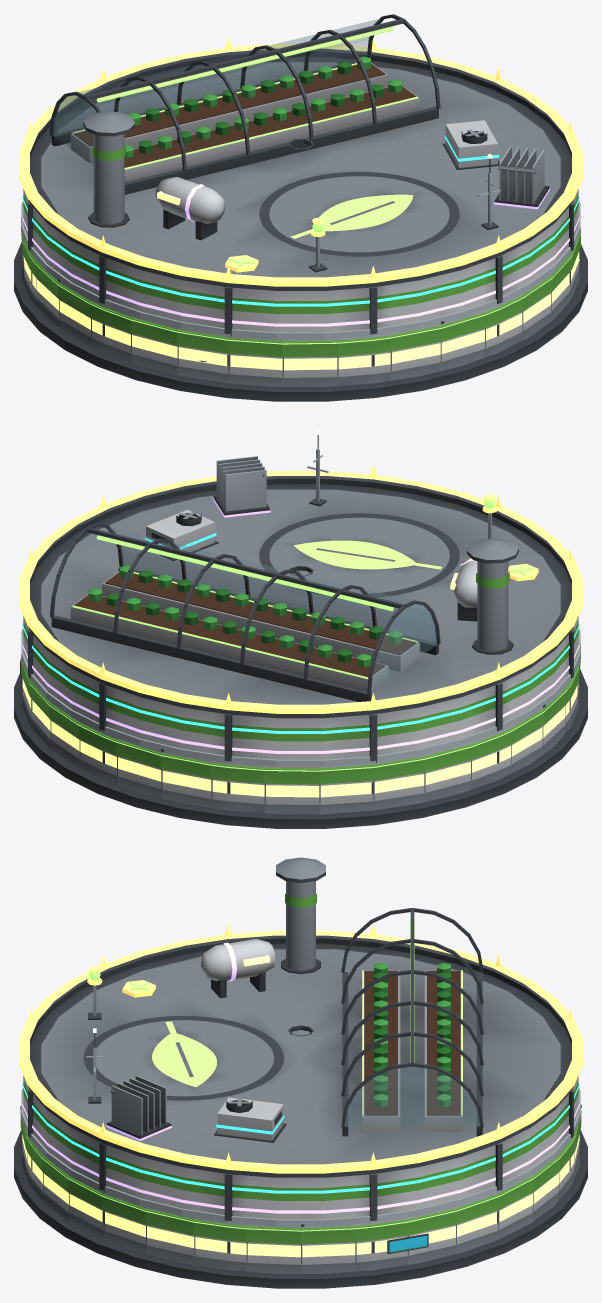
The model's file is kitchen_m.glb.
3 views of the same model, one above another, from view 1: azimuth 30°, elevation 25°; view 2: azimuth 150°, elevation 25°; view 3: azimuth 270°, elevation 25° (orthographic).
Parts seen in each view (by area): view 1: Roof, Base, L4, Wall_21, Wall_20, Wall_22, Wall_19, Wall_23, L3, Wall_18, Wall_24, Upper_21 (+26 smaller); view 2: Roof, Base, L4, Wall_10, Wall_11, Wall_09, Wall_12, Wall_08, L3, Wall_13, Wall_07, Upper_09 (+24 smaller); view 3: Roof, Base, L4, L3, Wall_00, Wall_31, Wall_30, Wall_29, Wall_01, Upper_00, Upper_31, Wall_02 (+24 smaller).
Part boxes in pixels (x1,y1,x2,y2): Roof: (28,14,573,290); Base: (14,241,587,401); L4: (155,146,549,240); Wall_21: (282,338,337,386); Wall_20: (228,334,282,386); Wall_22: (337,333,391,385); Wall_19: (177,328,228,383); Wall_23: (390,324,441,380); L3: (288,120,499,169); Wall_18: (130,315,177,374); Wall_24: (440,310,485,371); Upper_21: (282,290,337,332); Roof: (28,476,573,718); Base: (14,669,587,828); L4: (212,456,477,621); Wall_10: (264,766,319,814); Wall_11: (319,763,373,814); Wall_09: (210,760,264,813); Wall_12: (373,755,424,810); Wall_08: (160,749,211,807); L3: (145,509,313,576); Wall_13: (424,743,471,802); Wall_07: (116,738,161,798); Upper_09: (211,712,264,761); Roof: (28,857,573,1177); Base: (14,1130,587,1288); L4: (106,939,275,1140); L3: (214,1025,313,1142); Wall_00: (301,1224,355,1273); Wall_31: (246,1224,300,1273); Wall_30: (193,1217,246,1271); Wall_29: (145,1207,194,1264); Wall_01: (355,1217,408,1271); Upper_00: (301,1175,355,1219); Upper_31: (246,1175,300,1219); Wall_02: (407,1207,456,1264).
Bounding box in the file's own units: 13.55 × 5.54 × 13.55.
